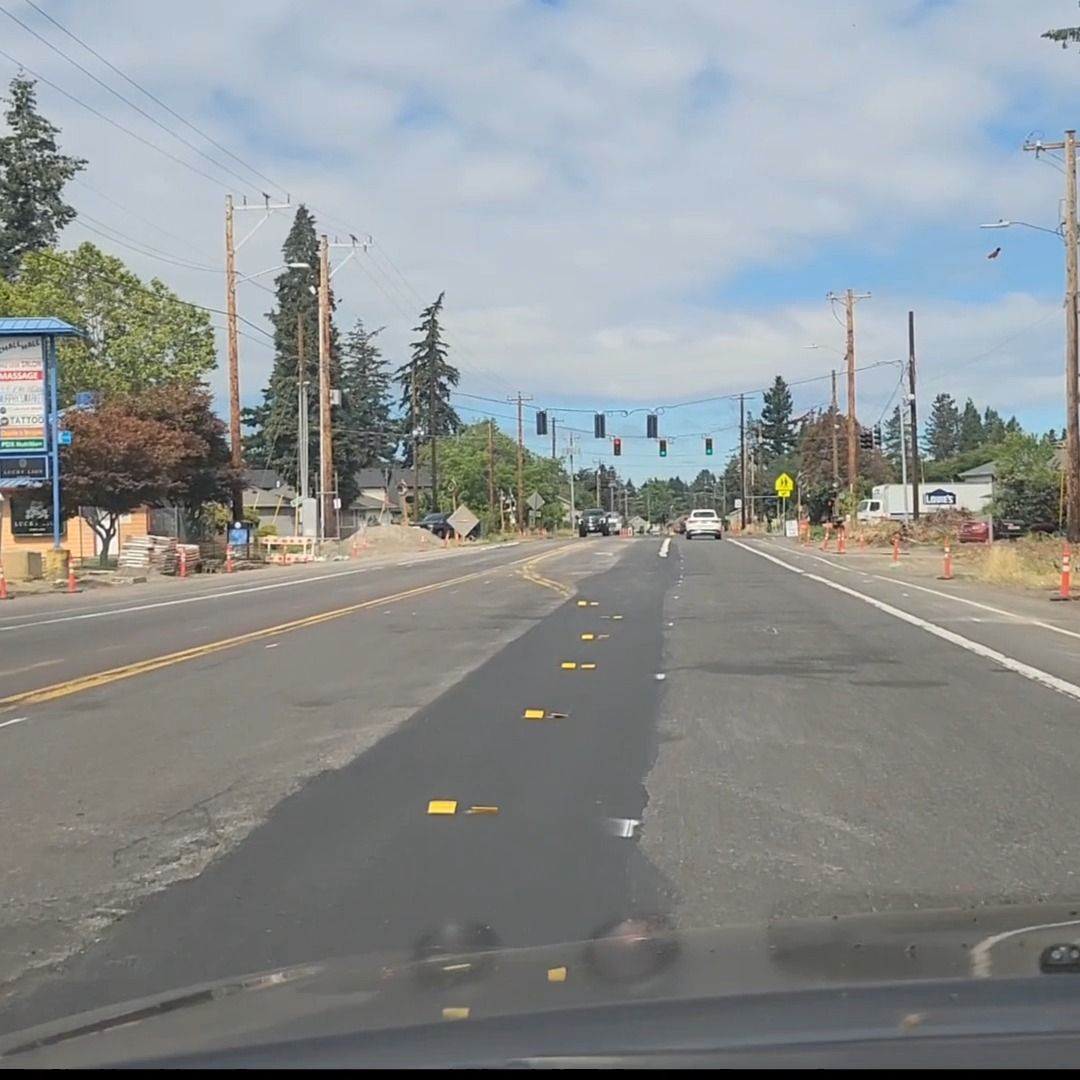car: (412, 510, 473, 538), (682, 509, 722, 540), (578, 508, 619, 536), (667, 516, 687, 534)
crosswalk-sign: (774, 472, 793, 497), (525, 492, 544, 510)
delineator: (1058, 547, 1072, 598), (938, 537, 953, 580), (66, 563, 78, 593), (890, 533, 901, 564), (0, 566, 10, 598), (820, 526, 831, 549), (225, 545, 234, 573), (178, 546, 186, 577), (837, 527, 846, 553), (802, 525, 813, 544), (984, 520, 992, 546), (857, 529, 866, 547), (350, 539, 358, 557)
